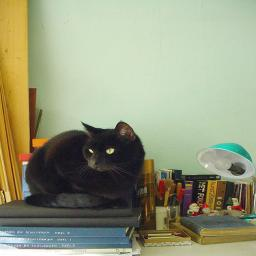catnose: (90, 157, 100, 166)
